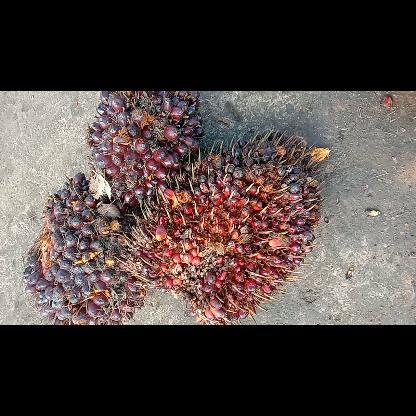Kurang masak: (22, 168, 146, 324), (87, 90, 202, 208)
TBS masak: (131, 134, 323, 318)
